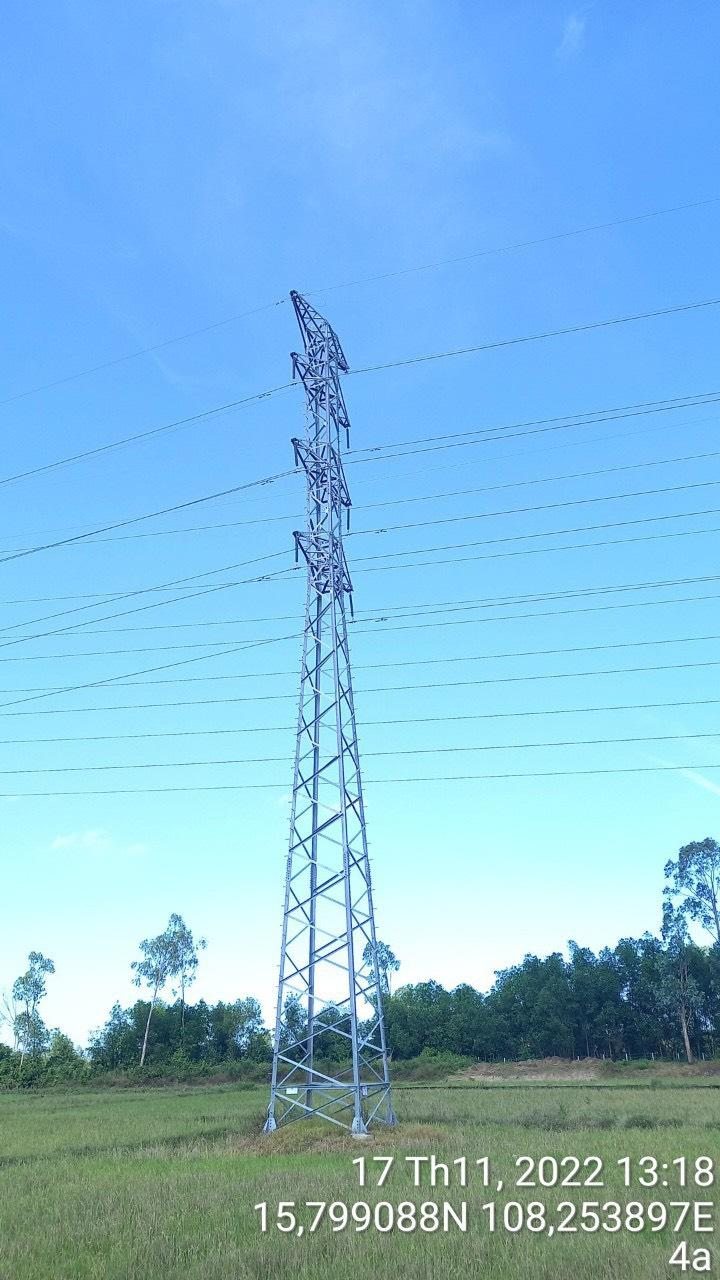power_tower: (240, 284, 398, 1138)
